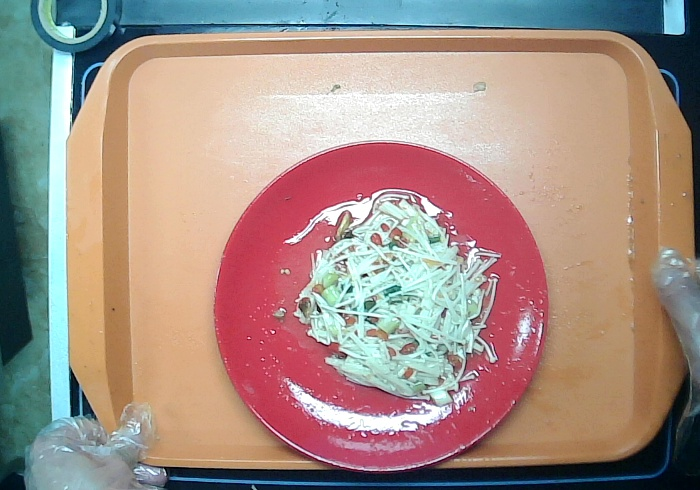HZYJPL-Hong_Se_Yuan_Pan: (209, 127, 561, 485)
